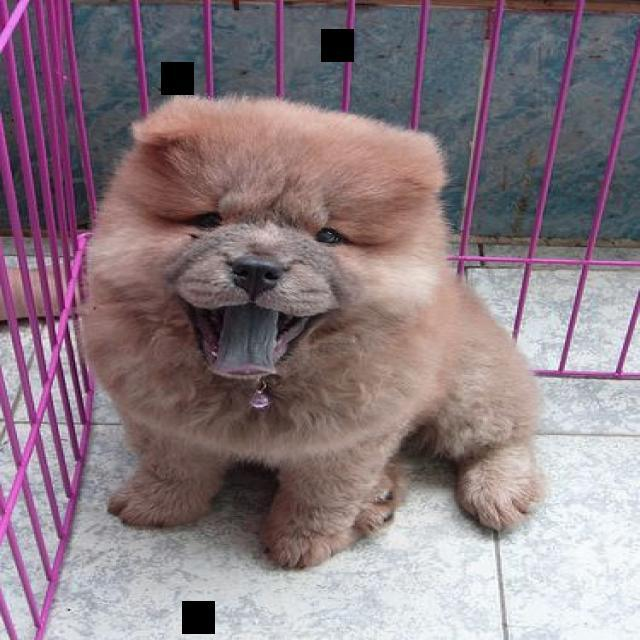puppy-dog: (81, 86, 547, 571)
